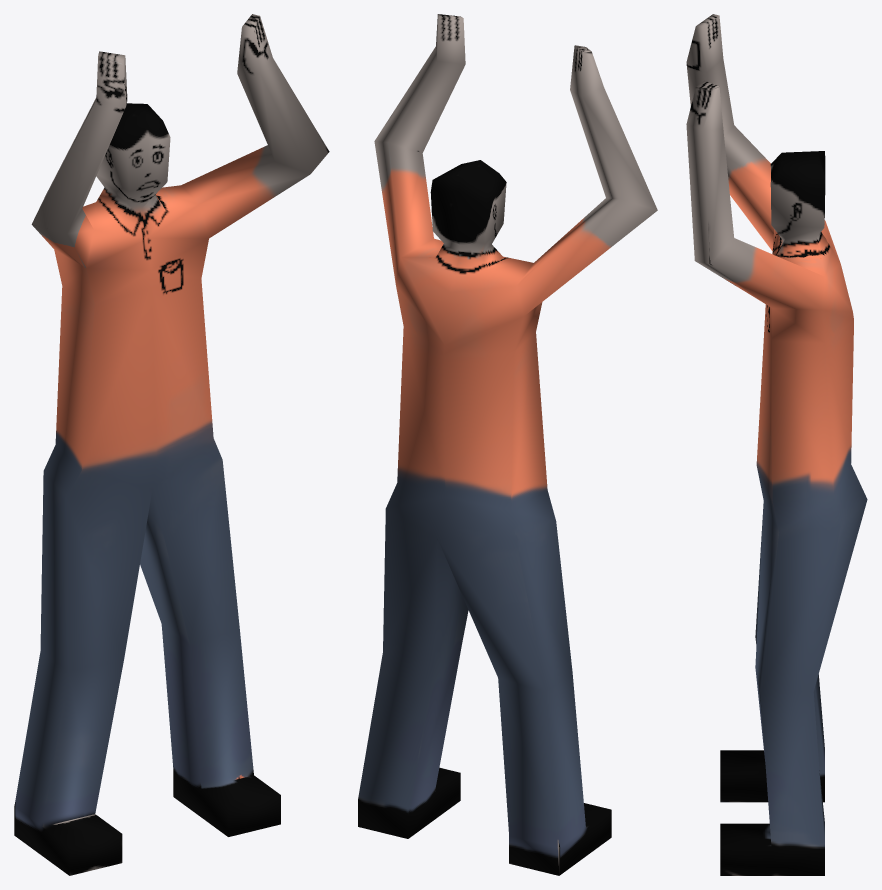
Rendered from Man.fbx.
3 renders of one model, left to right at view 1: azimuth 30°, elevation 25°; view 2: azimuth 150°, elevation 25°; view 3: azimuth 270°, elevation 25°, orthographic. The views are drawn at different scales.
Parts seen in each view (by area): view 1: Cube.001; view 2: Cube.001; view 3: Cube.001.
Part boxes in pixels (left/top/right/bottom): Cube.001: left=14, top=14, right=329, bottom=875; Cube.001: left=358, top=14, right=657, bottom=875; Cube.001: left=686, top=14, right=867, bottom=875.
Bounding box in the file's own units: 136 × 358 × 75.67.
